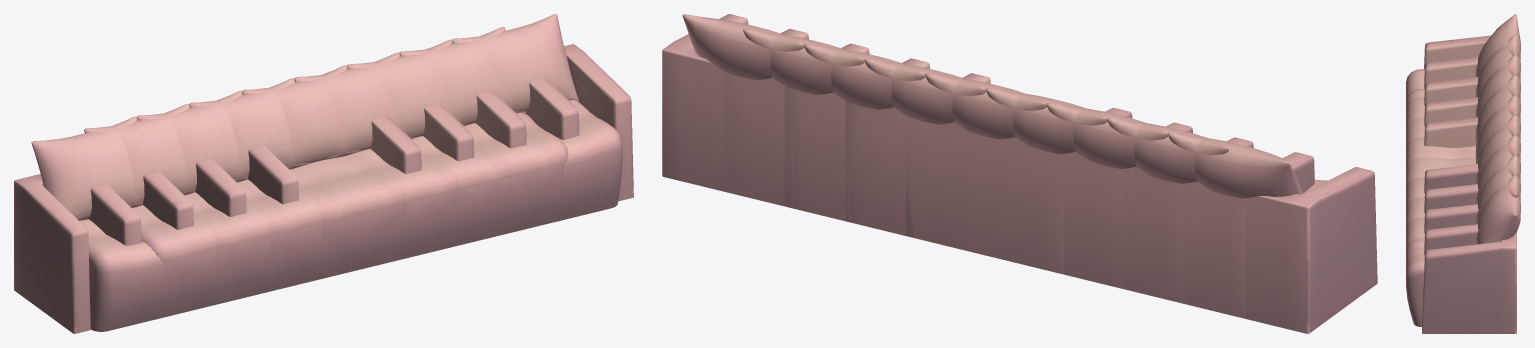
File: Sofa.fbx
The picture shows the model from 3 angles, left to right: view 1: azimuth 30°, elevation 25°; view 2: azimuth 150°, elevation 25°; view 3: azimuth 270°, elevation 25°; orthographic projection. The views are drawn at different scales.
Visible parts, largest first — view 1: Sofa_5seats, Sofa_4seats, Sofa_3seats, Sofa_2seats, Sofa_1seat; view 2: Sofa_5seats, Sofa_4seats, Sofa_3seats, Sofa_2seats, Sofa_1seat; view 3: Sofa_5seats, Sofa_3seats, Sofa_2seats, Sofa_4seats, Sofa_1seat.
Part boxes in pixels (x1,y1,x2,y2): Sofa_5seats: [14, 14, 633, 333]; Sofa_4seats: [84, 27, 579, 317]; Sofa_3seats: [137, 39, 526, 304]; Sofa_2seats: [189, 52, 474, 291]; Sofa_1seat: [242, 65, 421, 279]; Sofa_5seats: [662, 14, 1377, 333]; Sofa_4seats: [724, 29, 1314, 318]; Sofa_3seats: [784, 43, 1253, 303]; Sofa_2seats: [845, 58, 1192, 288]; Sofa_1seat: [906, 73, 1132, 274]; Sofa_5seats: [1406, 14, 1520, 333]; Sofa_3seats: [1406, 54, 1520, 233]; Sofa_2seats: [1406, 74, 1520, 213]; Sofa_4seats: [1406, 34, 1520, 256]; Sofa_1seat: [1406, 94, 1520, 193].
Bounding box in the file's own units: 320 × 78.76 × 72.61.
